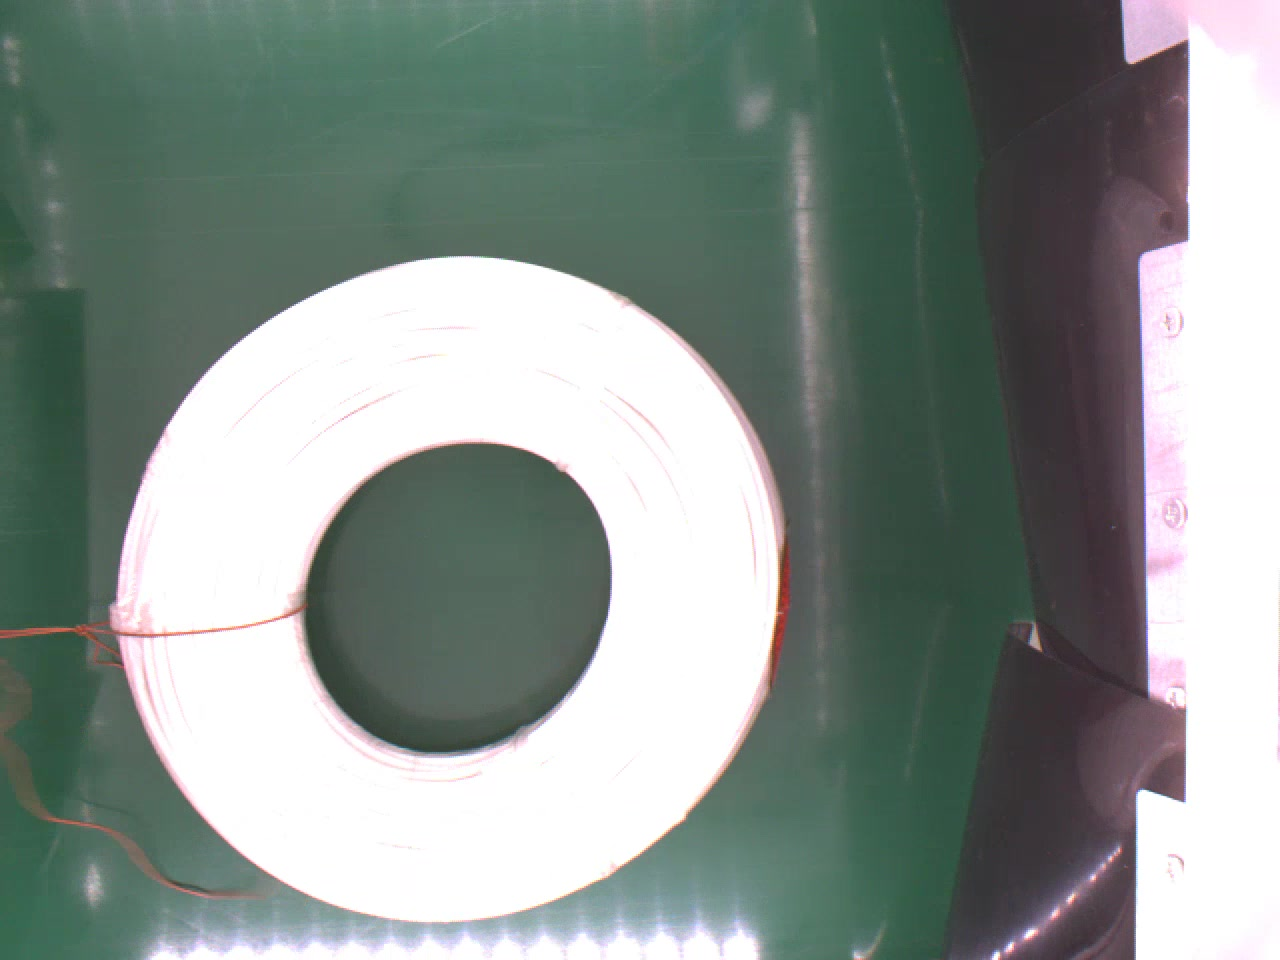white: (114, 248, 795, 920)
